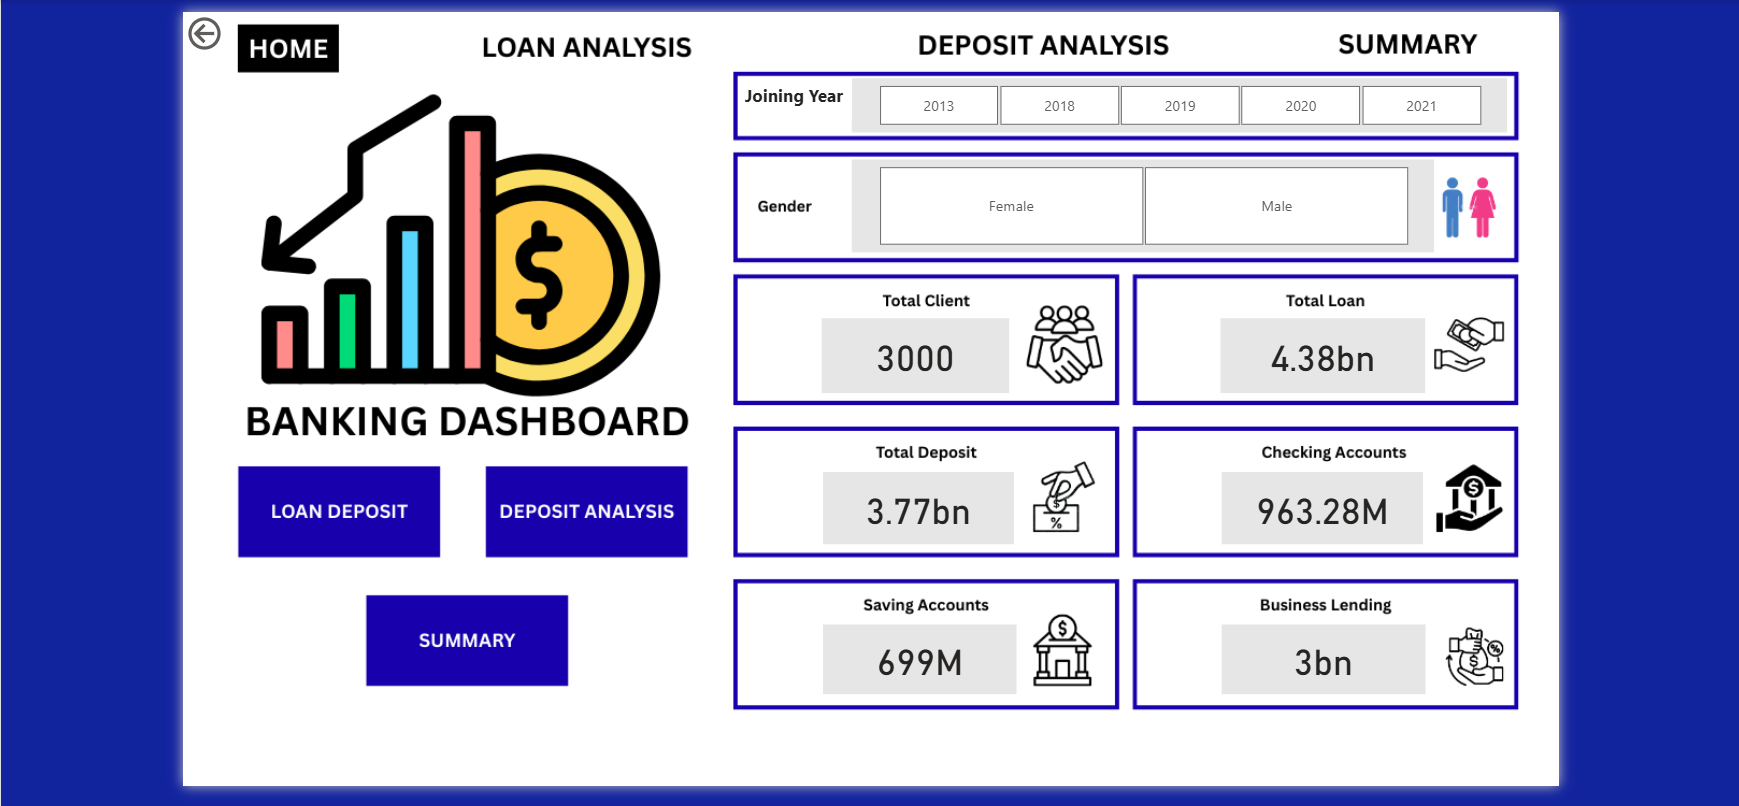

This screenshot's page, from the dashboard's own definition file:
{"tool":"powerbi","page":{"name":"Home","canvas":[1280,720],"ordinal":0},"visuals":[{"type":"card","fields":{"Values":["CountNonNull(Banking.Name)"]},"box":[594.2,284.9,174.4,69.8],"z":0},{"type":"slicer","fields":{"Values":["Banking.GenderId"]},"box":[622.1,137.2,541.9,86],"z":1000},{"type":"card","fields":{"Values":["Banking.Total Loan"]},"box":[965.1,284.9,190.7,69.8],"z":2000},{"type":"card","fields":{"Values":["Banking.Total Deposit"]},"box":[595.3,427.9,177.9,67.4],"z":3000},{"type":"slicer","fields":{"Values":["Banking.Year Of Joining"]},"box":[622.1,61.6,609.3,50],"z":4000},{"type":"textbox","box":[517.4,61.6,104.7,39.5],"z":5000},{"type":"card","fields":{"Values":["Sum(Banking.Checking Accounts)"]},"box":[966.3,427.9,187.2,67.4],"z":6000},{"type":"card","fields":{"Values":["Sum(Banking.Business Lending)"]},"box":[966.3,569.8,189.5,65.1],"z":7000},{"type":"card","fields":{"Values":["Sum(Banking.Saving Accounts)"]},"box":[595.3,569.8,180.2,65.1],"z":8000},{"type":"actionButton","box":[0,0,100,40],"z":9000},{"type":"actionButton","box":[284.9,420.9,182.6,80.2],"z":10000},{"type":"actionButton","box":[169.8,541.9,191.9,80.2],"z":11000},{"type":"actionButton","box":[50,420.9,191.9,80.2],"z":12000},{"type":"actionButton","box":[46.5,10.5,100,51.2],"z":12001},{"type":"actionButton","box":[681.4,10.5,248.8,40.7],"z":12002},{"type":"actionButton","box":[261.6,10.5,219.8,51.2],"z":12003},{"type":"actionButton","box":[1065.1,10.5,166.3,40.7],"z":12004}]}

Visuals, with their boxes on the page's 1280x720 design canvas (x1, y1, x2, y2). These are canvas units, not pixel positions in the 1739x806 screenshot, which may show the page scaled, cropped or inside an application window:
card - CountNonNull(Banking.Name): pyautogui.locateOnScreen(594, 285, 769, 355)
slicer - Banking.GenderId: pyautogui.locateOnScreen(622, 137, 1164, 223)
card - Banking.Total Loan: pyautogui.locateOnScreen(965, 285, 1156, 355)
card - Banking.Total Deposit: pyautogui.locateOnScreen(595, 428, 773, 495)
slicer - Banking.Year Of Joining: pyautogui.locateOnScreen(622, 62, 1231, 112)
textbox: pyautogui.locateOnScreen(517, 62, 622, 101)
card - Sum(Banking.Checking Accounts): pyautogui.locateOnScreen(966, 428, 1154, 495)
card - Sum(Banking.Business Lending): pyautogui.locateOnScreen(966, 570, 1156, 635)
card - Sum(Banking.Saving Accounts): pyautogui.locateOnScreen(595, 570, 776, 635)
actionButton: pyautogui.locateOnScreen(0, 0, 100, 40)
actionButton: pyautogui.locateOnScreen(285, 421, 468, 501)
actionButton: pyautogui.locateOnScreen(170, 542, 362, 622)
actionButton: pyautogui.locateOnScreen(50, 421, 242, 501)
actionButton: pyautogui.locateOnScreen(46, 10, 146, 62)
actionButton: pyautogui.locateOnScreen(681, 10, 930, 51)
actionButton: pyautogui.locateOnScreen(262, 10, 481, 62)
actionButton: pyautogui.locateOnScreen(1065, 10, 1231, 51)
